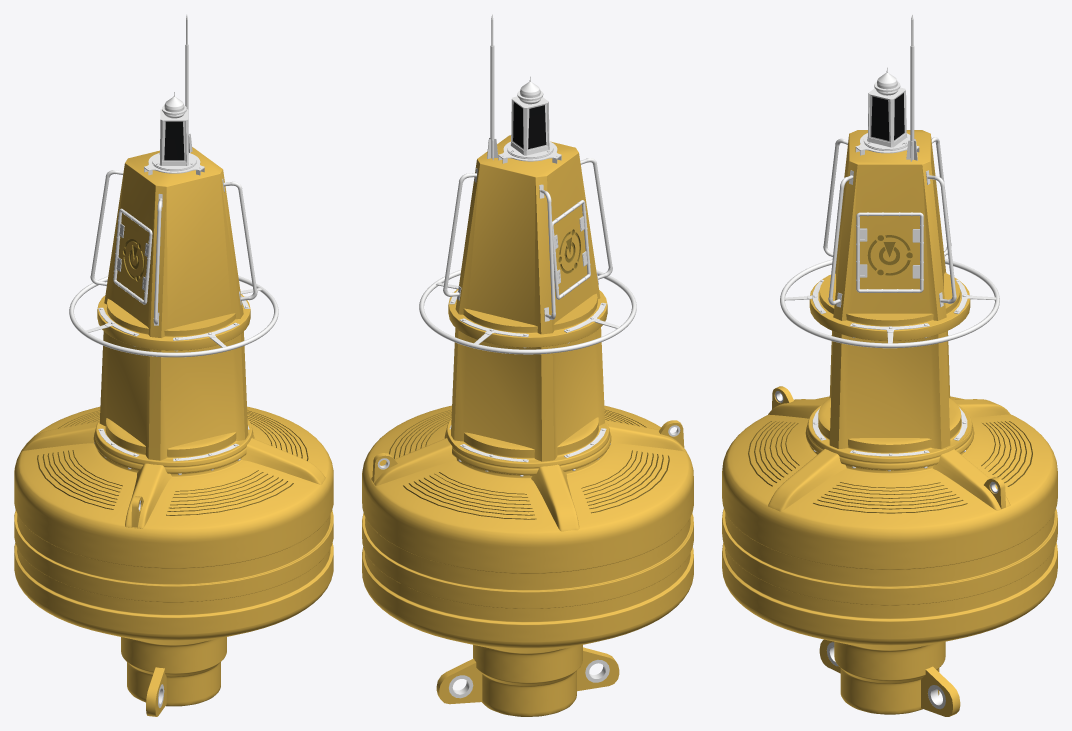
3 views of the same model, side by side, from view 1: azimuth 30°, elevation 25°; view 2: azimuth 150°, elevation 25°; view 3: azimuth 270°, elevation 25° (orthographic). The views are drawn at different scales.
Parts seen in each view (by area): view 1: 柱体-下.001, 柱体-上.001, 圆柱体, 布尔.001, 灯器设备.001, 圆环面, 立方体.003, 立方体.004, 立方体.001, 天元海-方框, 灯器设备-黑色, 立方体.005 (+3 smaller); view 2: 柱体-下.001, 柱体-上.001, 圆柱体, 布尔.001, 立方体.005, 灯器设备.001, 圆环面, 立方体.001, 立方体.002, 立方体.004, 灯器设备-黑色, 天元海-方框 (+5 smaller); view 3: 柱体-下.001, 柱体-上.001, 圆柱体, 布尔.001, 圆环面, 灯器设备.001, 立方体.003, 立方体.002, 天元海-方框, 立方体.005, 灯器设备-黑色, 信号针 (+7 smaller).
Part boxes in pixels (bbox=[...]): 柱体-下.001: bbox=[14, 406, 333, 706]; 柱体-上.001: bbox=[99, 147, 248, 460]; 圆柱体: bbox=[97, 294, 250, 350]; 布尔.001: bbox=[37, 410, 308, 515]; 灯器设备.001: bbox=[144, 92, 204, 175]; 圆环面: bbox=[69, 276, 278, 357]; 立方体.003: bbox=[242, 438, 325, 484]; 立方体.004: bbox=[125, 463, 171, 528]; 立方体.001: bbox=[22, 421, 98, 450]; 天元海-方框: bbox=[113, 208, 152, 304]; 灯器设备-黑色: bbox=[164, 121, 184, 160]; 立方体.005: bbox=[146, 667, 166, 716]; 柱体-下.001: bbox=[362, 405, 693, 716]; 柱体-上.001: bbox=[451, 135, 604, 461]; 圆柱体: bbox=[448, 289, 607, 347]; 布尔.001: bbox=[389, 409, 669, 519]; 立方体.005: bbox=[436, 647, 619, 704]; 灯器设备.001: bbox=[498, 76, 561, 163]; 圆环面: bbox=[419, 270, 636, 354]; 立方体.001: bbox=[531, 464, 579, 531]; 立方体.002: bbox=[371, 438, 456, 485]; 立方体.004: bbox=[606, 420, 685, 451]; 灯器设备-黑色: bbox=[513, 102, 546, 149]; 天元海-方框: bbox=[552, 200, 590, 299]; 柱体-下.001: bbox=[722, 396, 1057, 714]; 柱体-上.001: bbox=[829, 130, 950, 448]; 圆柱体: bbox=[809, 272, 970, 341]; 布尔.001: bbox=[748, 421, 1032, 513]; 圆环面: bbox=[780, 259, 999, 348]; 灯器设备.001: bbox=[855, 67, 919, 155]; 立方体.003: bbox=[768, 449, 846, 511]; 立方体.002: bbox=[932, 449, 1010, 510]; 天元海-方框: bbox=[856, 212, 923, 292]; 立方体.005: bbox=[819, 639, 960, 716]; 灯器设备-黑色: bbox=[871, 93, 904, 140]; 信号针: bbox=[906, 14, 917, 161].
Size of the model in its own units: 56.98 by 130 by 56.98.
